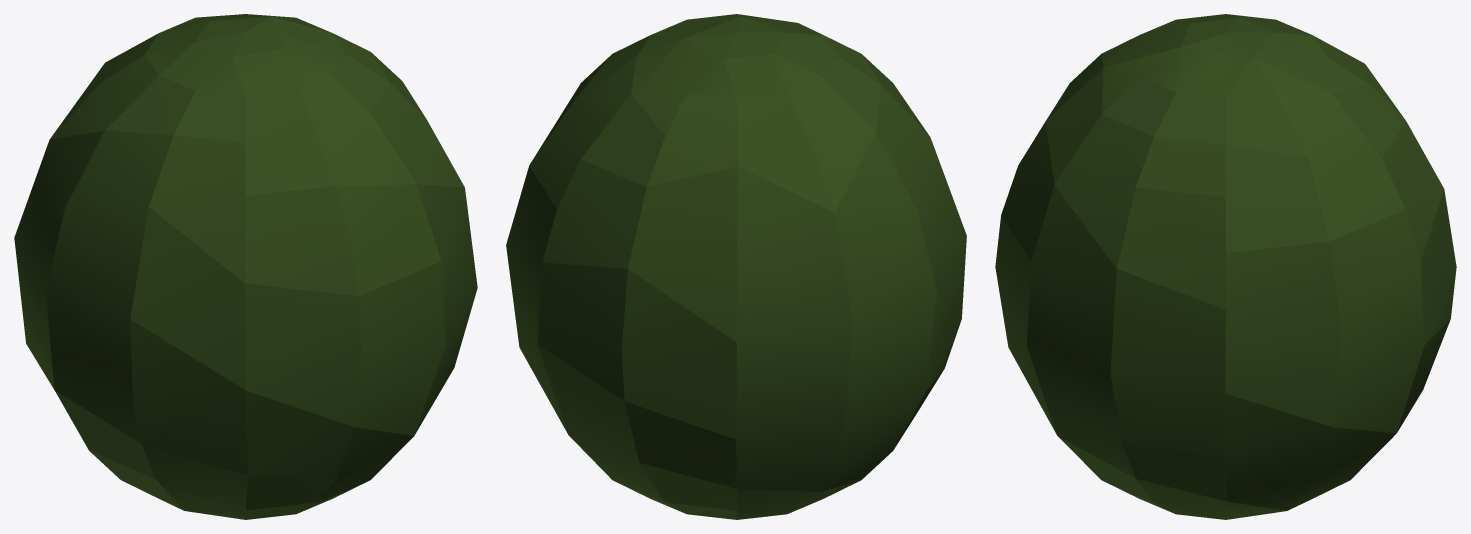
The model's file is Watermelon_01.fbx.
3 views of the same model, side by side, from view 1: azimuth 30°, elevation 25°; view 2: azimuth 150°, elevation 25°; view 3: azimuth 270°, elevation 25° (orthographic).
Parts seen in each view (by area): view 1: Watermelon_01; view 2: Watermelon_01; view 3: Watermelon_01.
Boxes of the visible parts, x1=… form: Watermelon_01: x1=14, y1=14, x2=477, y2=519; Watermelon_01: x1=506, y1=14, x2=966, y2=519; Watermelon_01: x1=995, y1=14, x2=1456, y2=519.
Size of the model in its own units: 0.3432 by 0.3846 by 0.3438.
